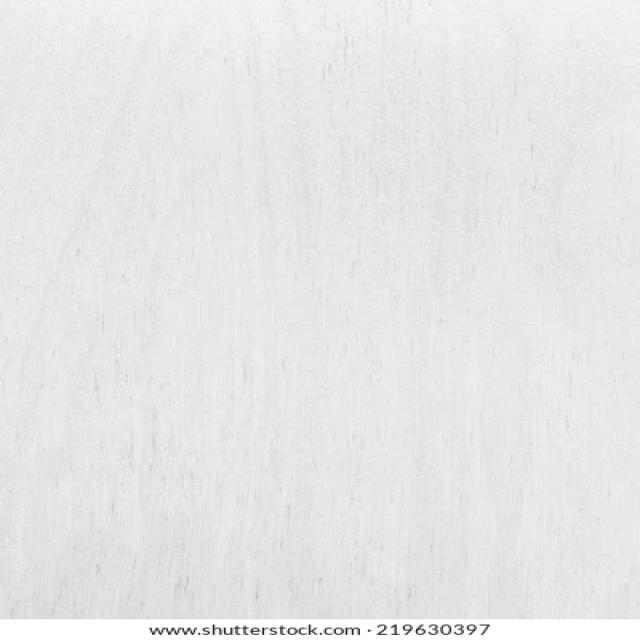rough and patchy surface: (8, 0, 640, 622)
